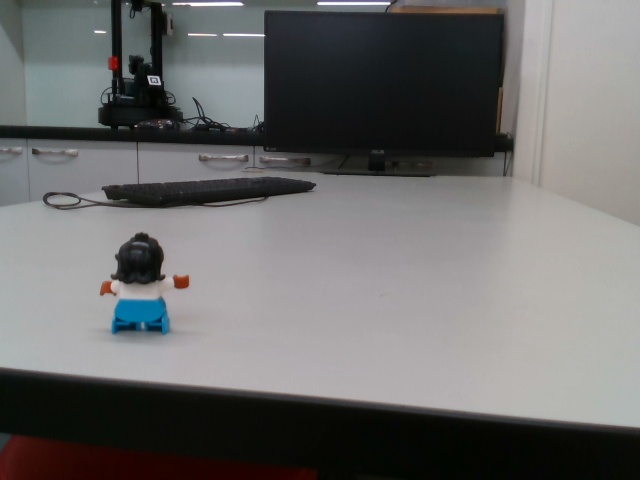people: (97, 231, 193, 336)
